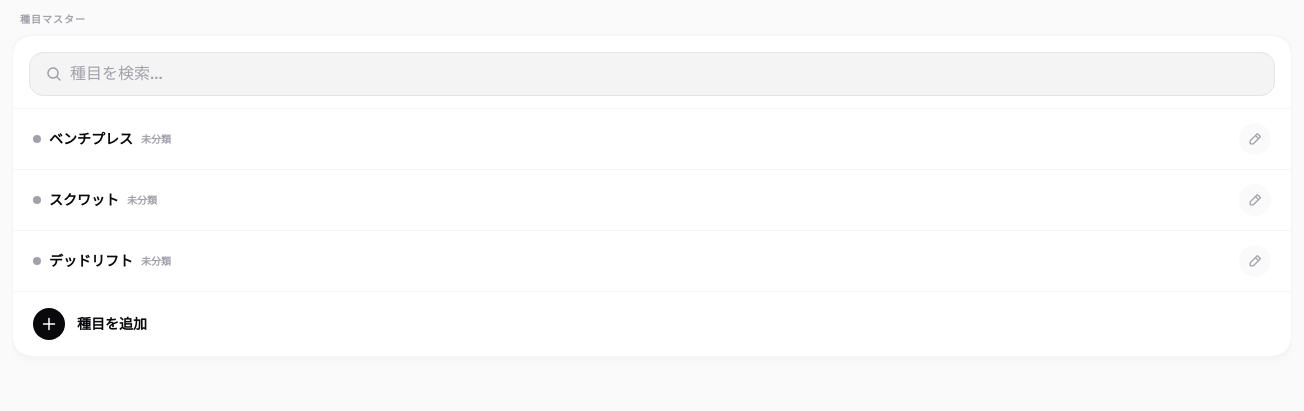
Scenario: ExerciseMasterSection › 編集をキャンセルすると編集モードの重複エラーをクリアする
Click the button named "ベンチプレスを編集": click(1255, 139) [1239, 123, 1271, 155]
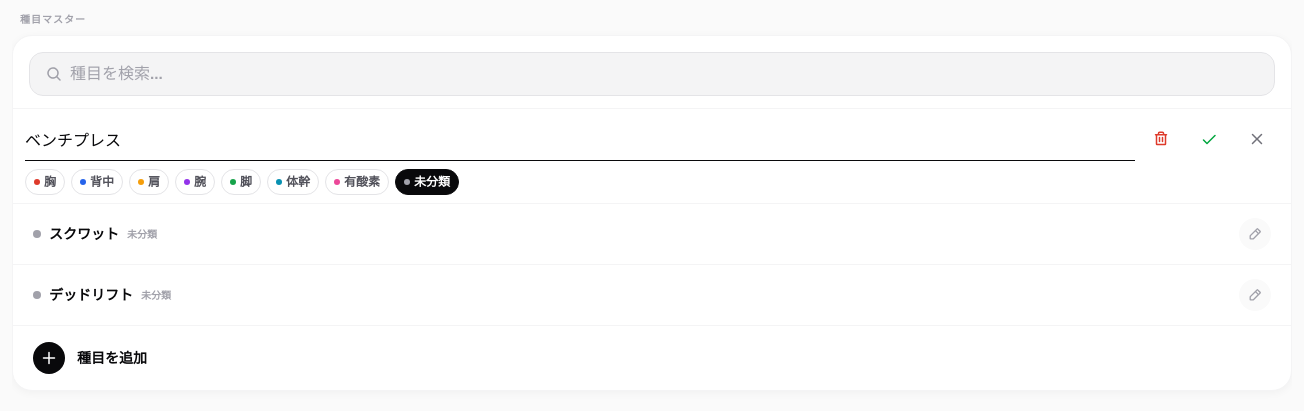
Replace the text in the field named "種目名を編集" with "スクワット": (580, 139) [25, 117, 1135, 161]
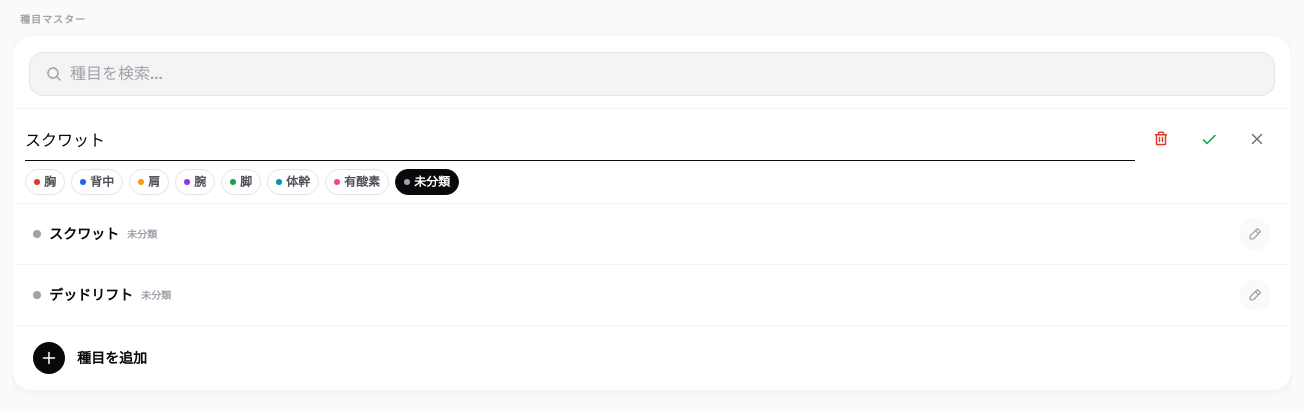
Click the button named "編集を確定": click(1209, 139) [1187, 117, 1231, 161]
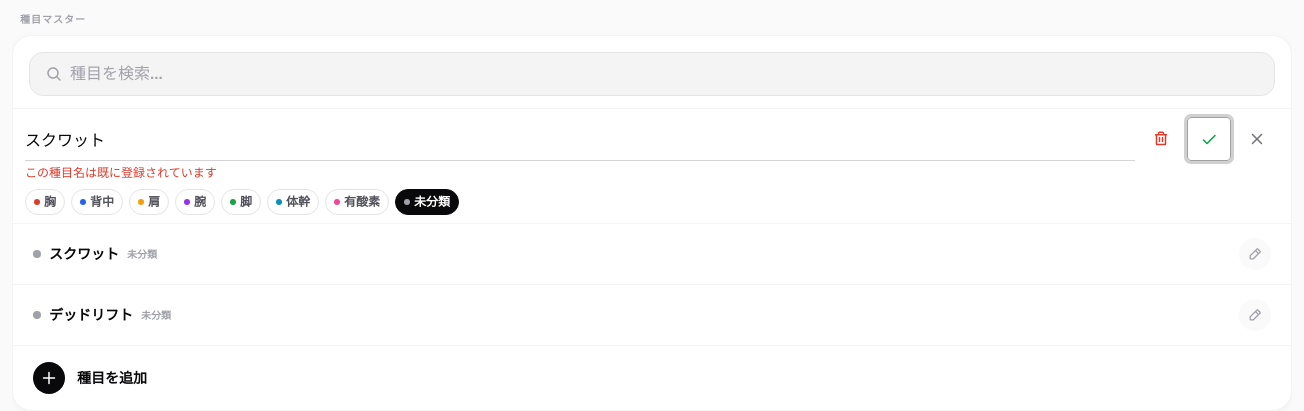
expect the message "この種目名は既に登録されています" is shown: met, box [25, 165, 217, 180]
Click the button named "編集をキャンセル": click(1257, 139) [1235, 117, 1279, 161]
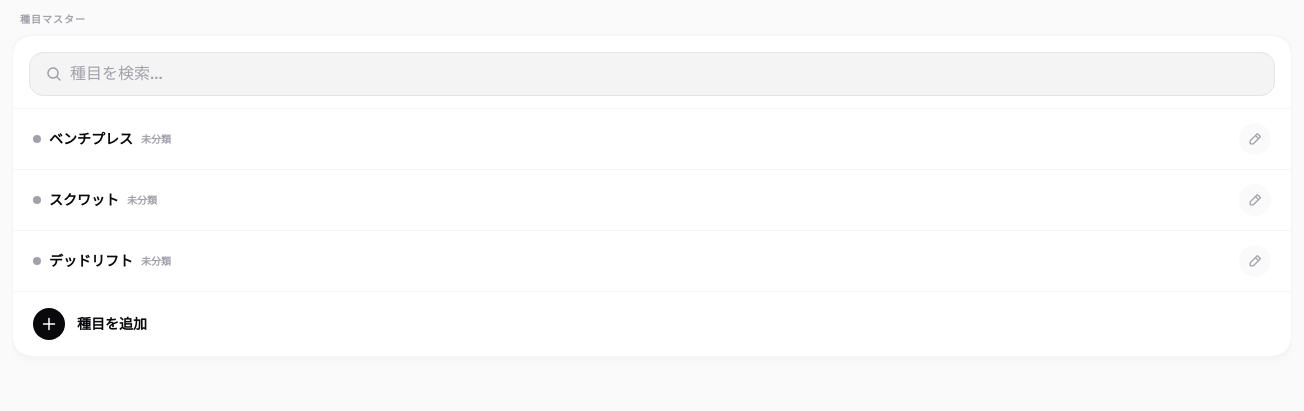
expect the message "この種目名は既に登録されています" is gone: met
